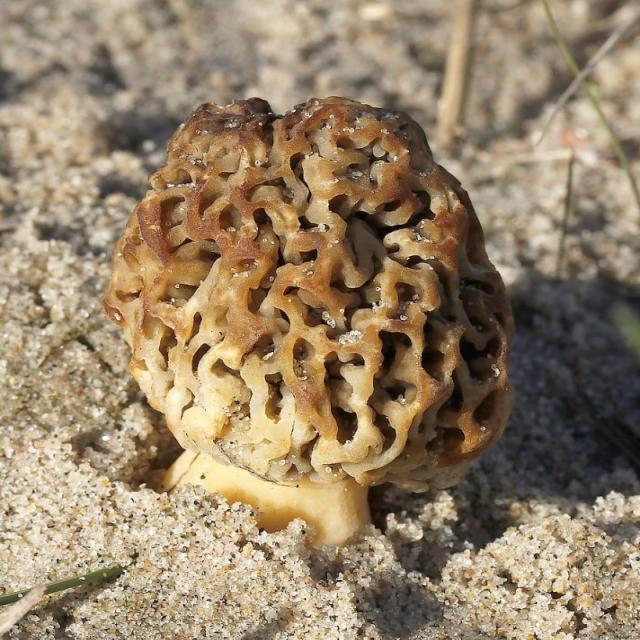Morchella esculenta: (108, 98, 508, 536)
